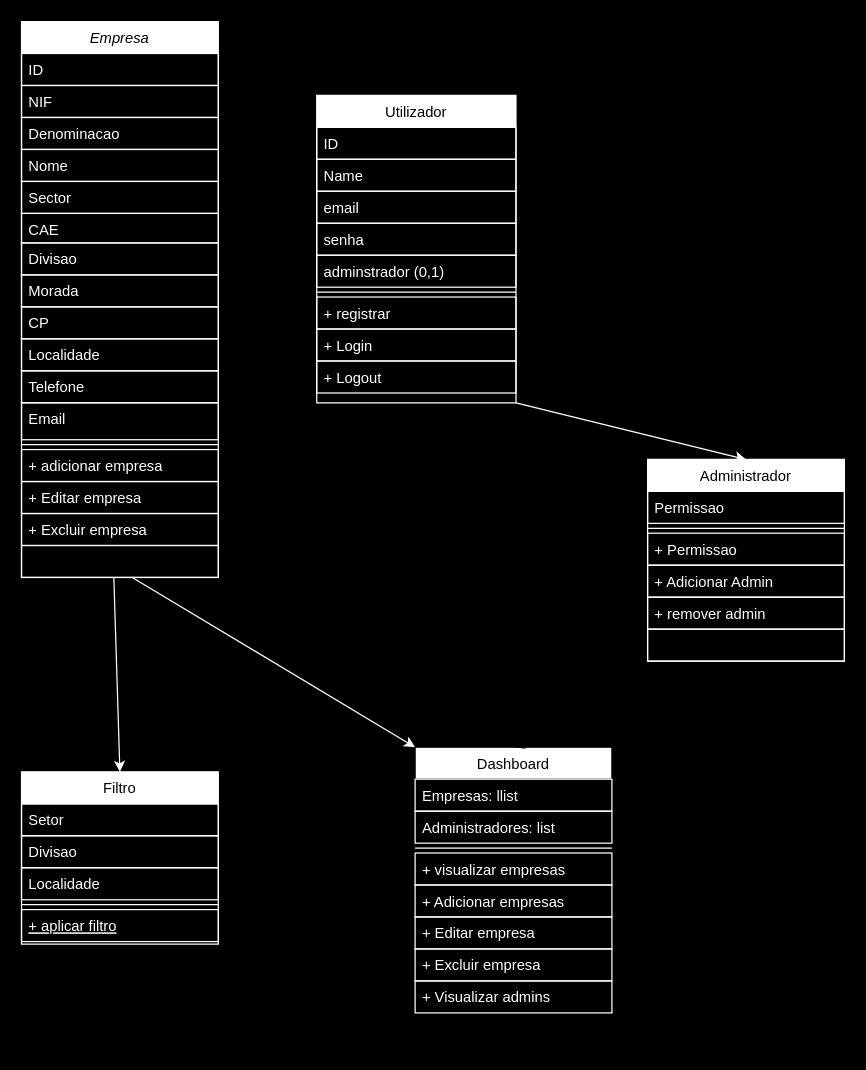
Image size: 866x1070. Some labels were removed from this diagram. The centre of each missing label's shape, as x and y in pixels:
"+ Buscar empresa" goes at pixel 119 560.
"+ gerenciar empresas" goes at pixel 745 644.
